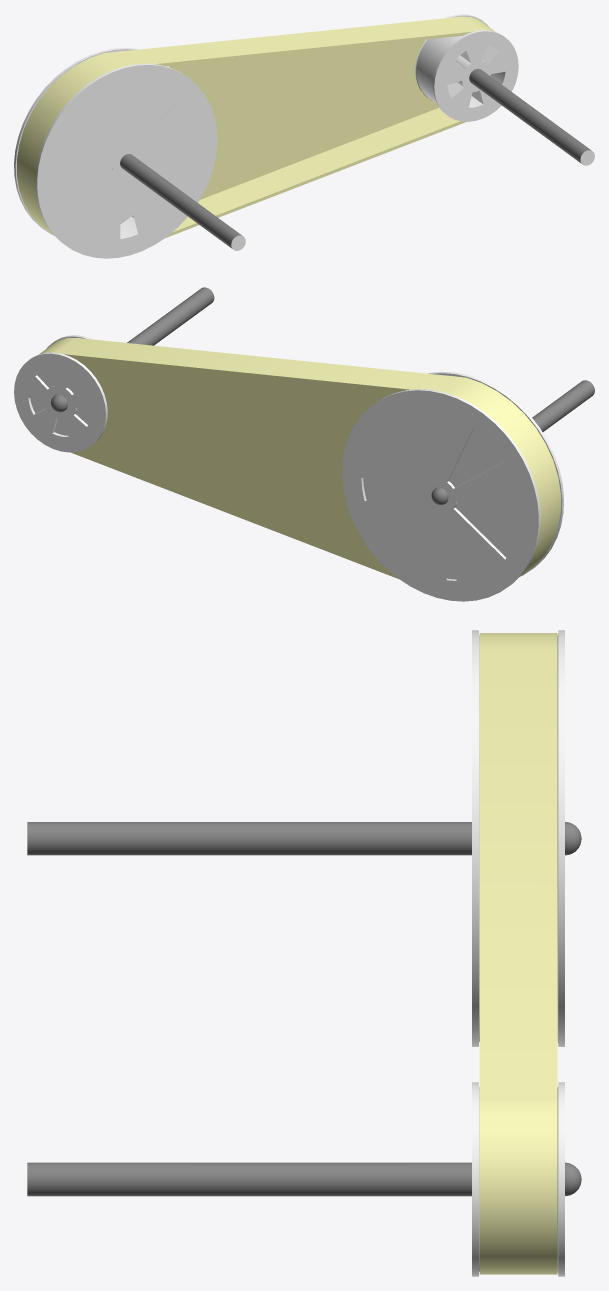
The model's file is flat-belt.fbx.
3 views of the same model, one above another, from view 1: azimuth 30°, elevation 25°; view 2: azimuth 150°, elevation 25°; view 3: azimuth 270°, elevation 25° (orthographic). The views are drawn at different scales.
Visible parts, largest first — view 1: Belt1-2, Part2, Part1; view 2: Belt1-2, Part2, Part1; view 3: Belt1-2, Part2, Part1.
Boxes of the visible parts, bbox=[...] form: Belt1-2: bbox=[17, 16, 495, 237]; Part2: bbox=[14, 48, 245, 258]; Part1: bbox=[415, 14, 594, 165]; Belt1-2: bbox=[39, 338, 560, 578]; Part2: bbox=[342, 372, 594, 601]; Part1: bbox=[14, 287, 214, 452]; Belt1-2: bbox=[479, 633, 557, 1274]; Part2: bbox=[27, 630, 581, 1046]; Part1: bbox=[27, 1082, 581, 1276].
Bounding box in the file's own units: 165 × 61.96 × 82.5.
